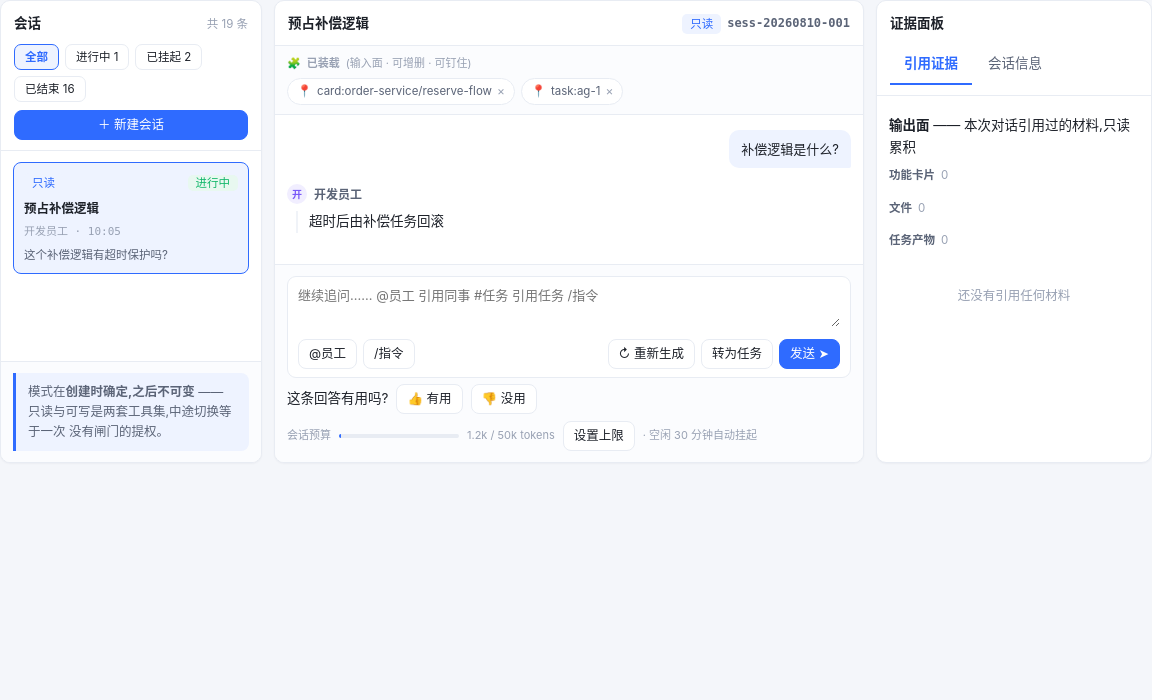
转为任务 › shows an editable draft and creates nothing until confirmed
Expected: the text "超时后由补偿任务回滚" is shown, [309,213,444,229]
What coordinates should you click on to do the following:
click the button "转为任务"
I would click on:
 (737, 354)
Its box is [701,339,773,369].
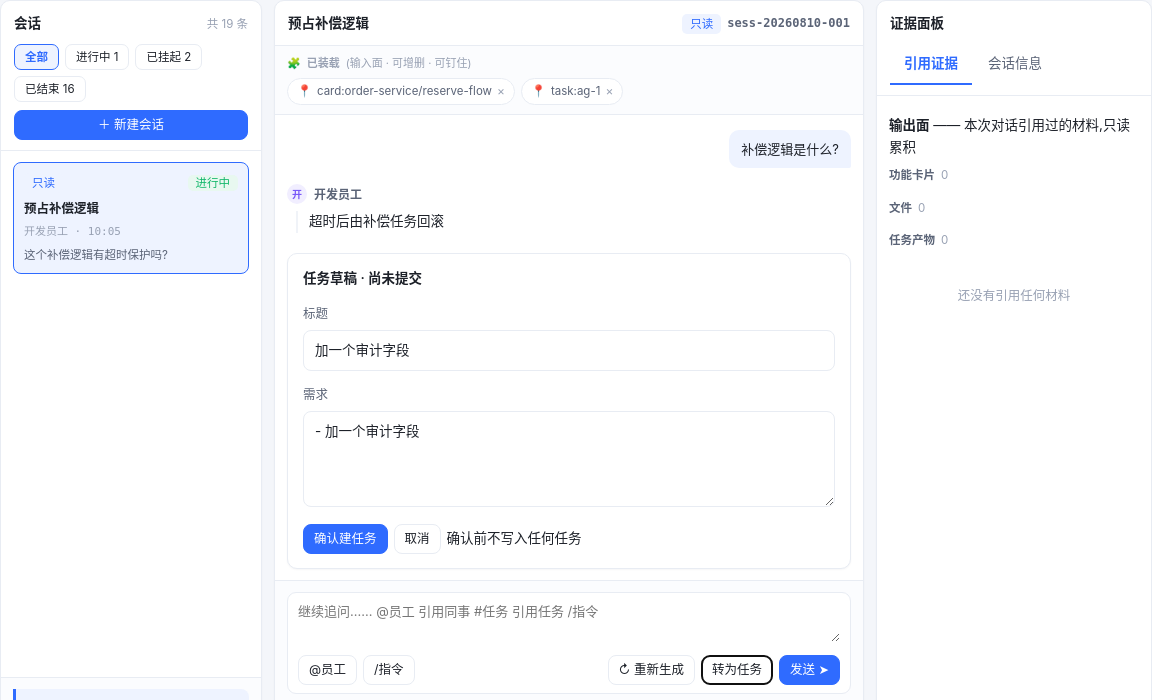
Now the field showing "加一个审计字段" is shown, box [303,330,835,371]
